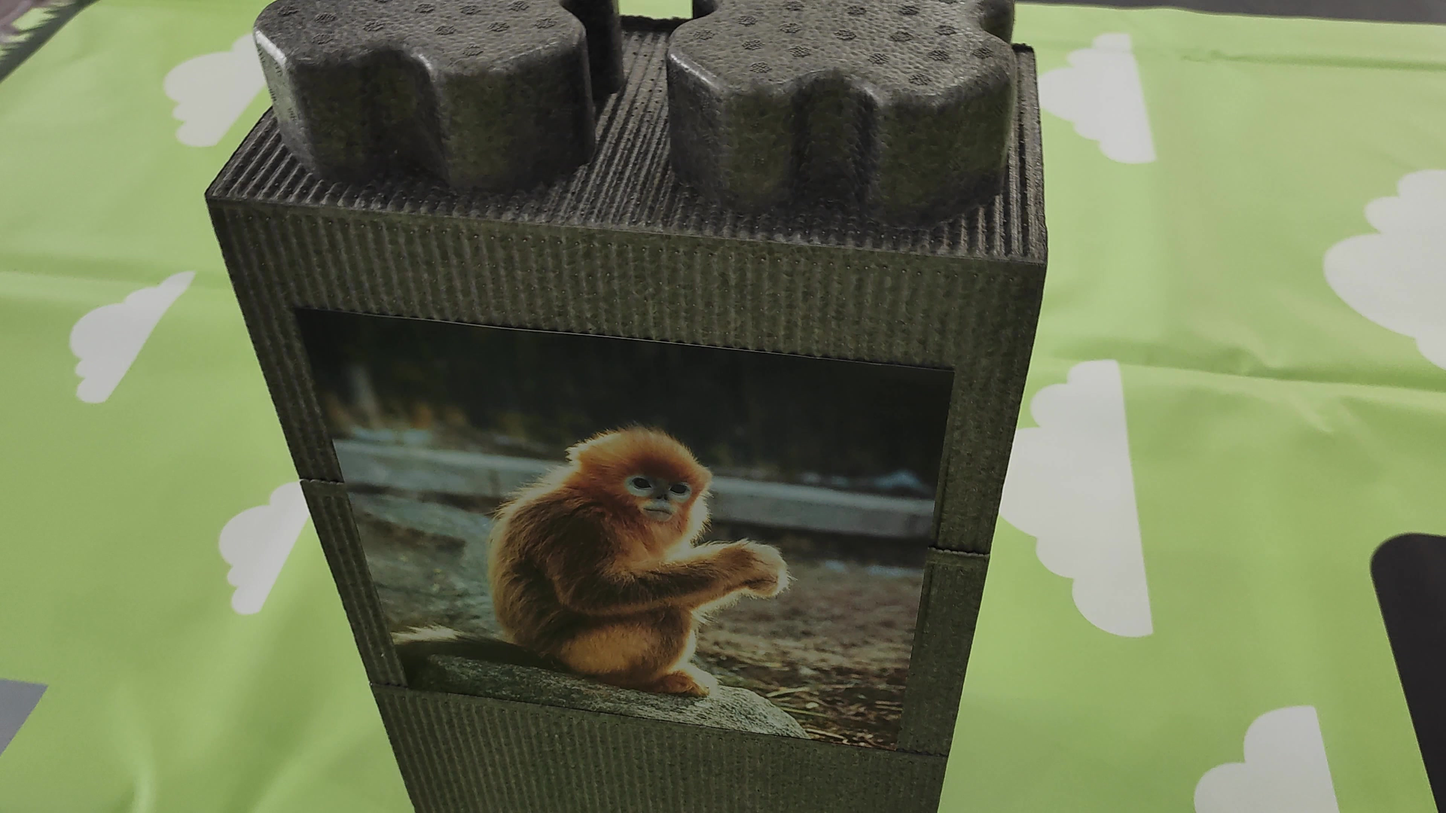monkey: (384, 376, 840, 734)
